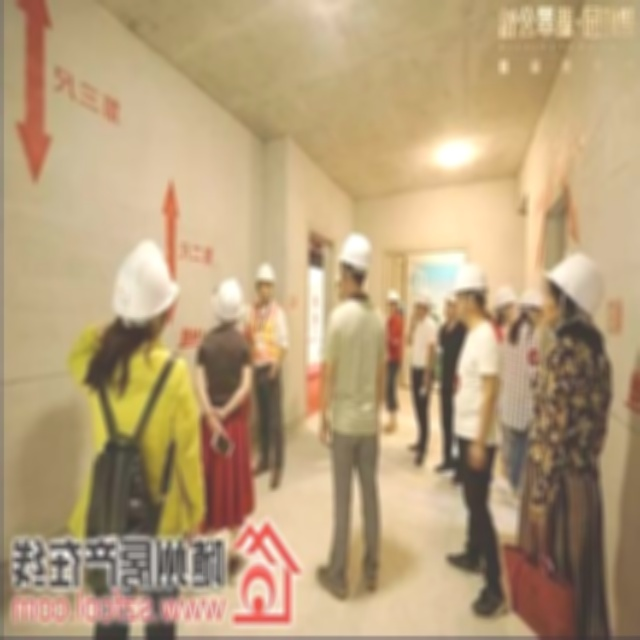Con_Casco: (115, 241, 176, 333), (452, 263, 484, 325), (342, 234, 373, 290)
